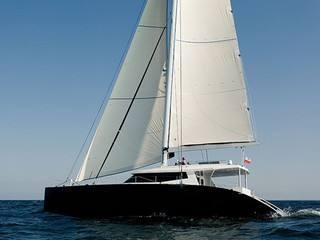fanchuan: (44, 1, 274, 217)
